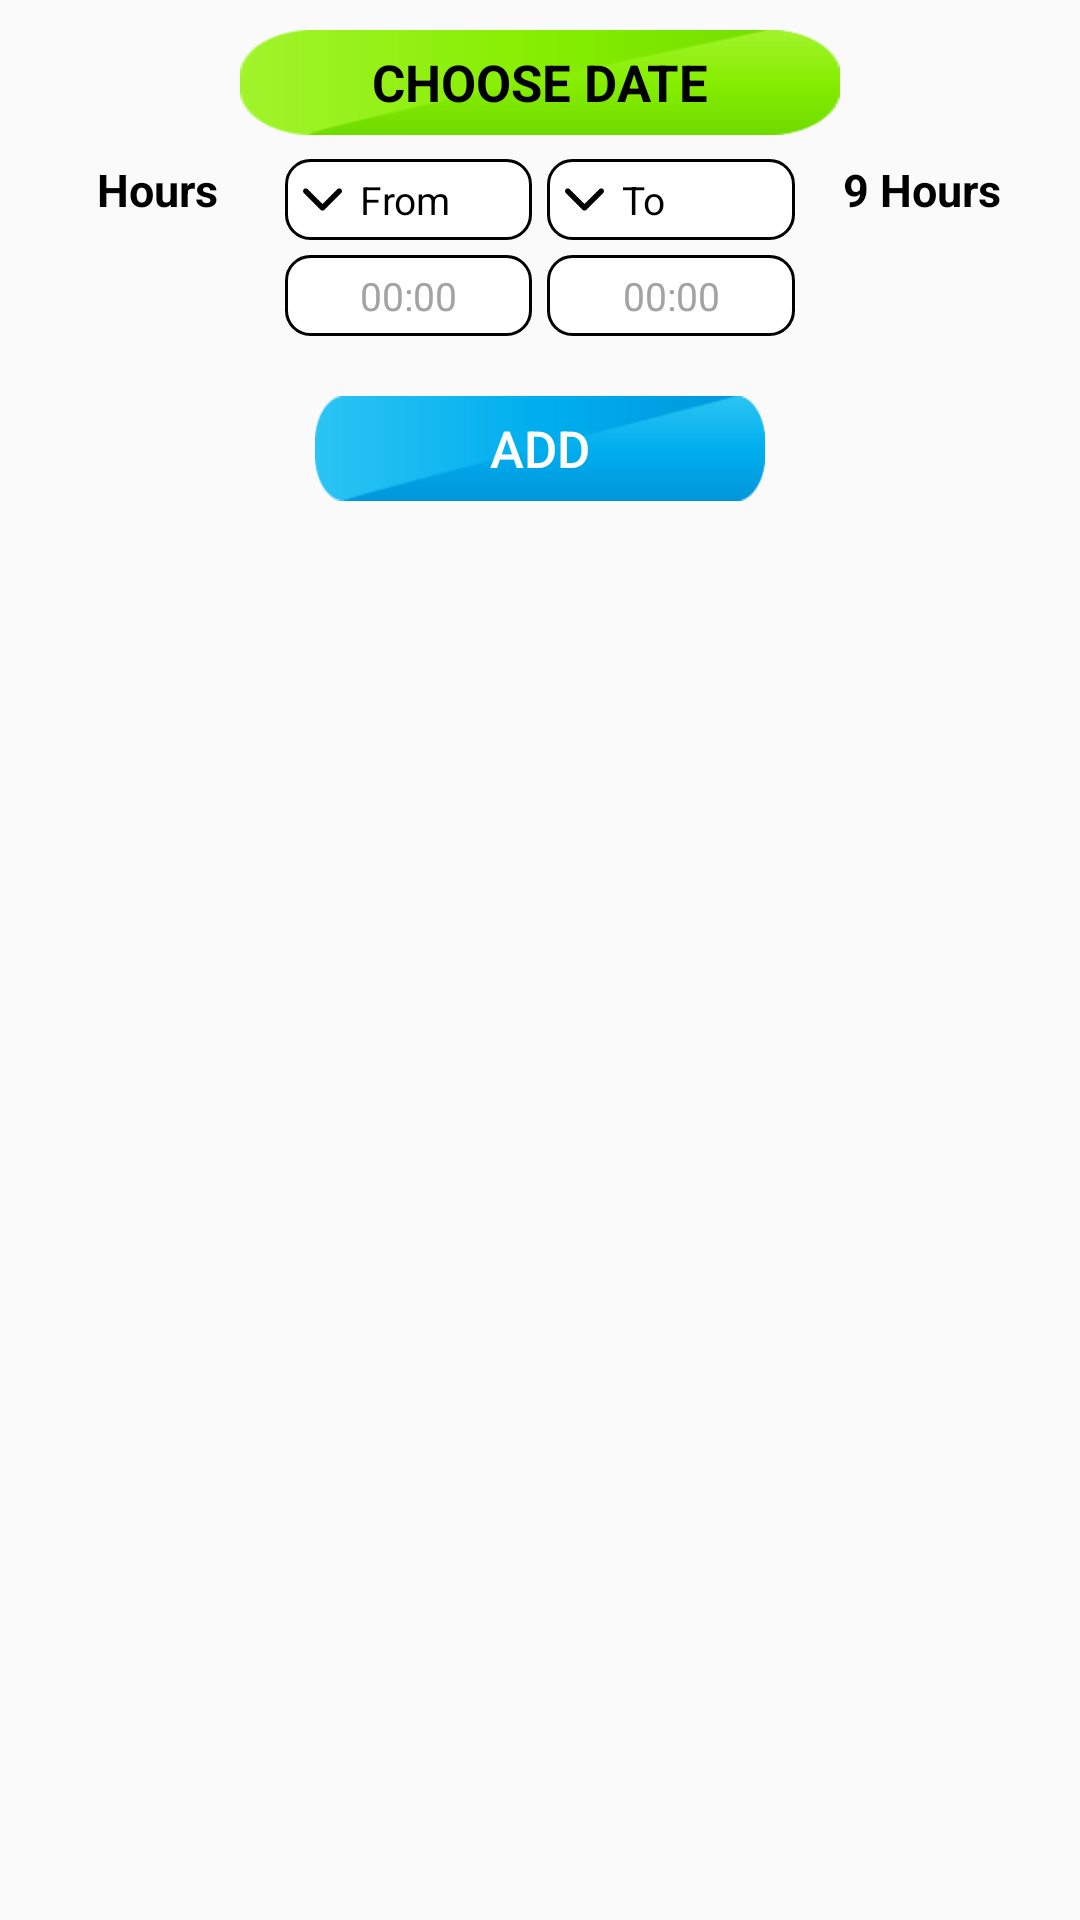

Named icons in this screenshot (1080*1920) and their bounding boxes, {"left": x1, "top": y1, "right": x2, "bottom": y2}:
down arrow: {"left": 285, "top": 159, "right": 360, "bottom": 240}, {"left": 547, "top": 159, "right": 622, "bottom": 240}
